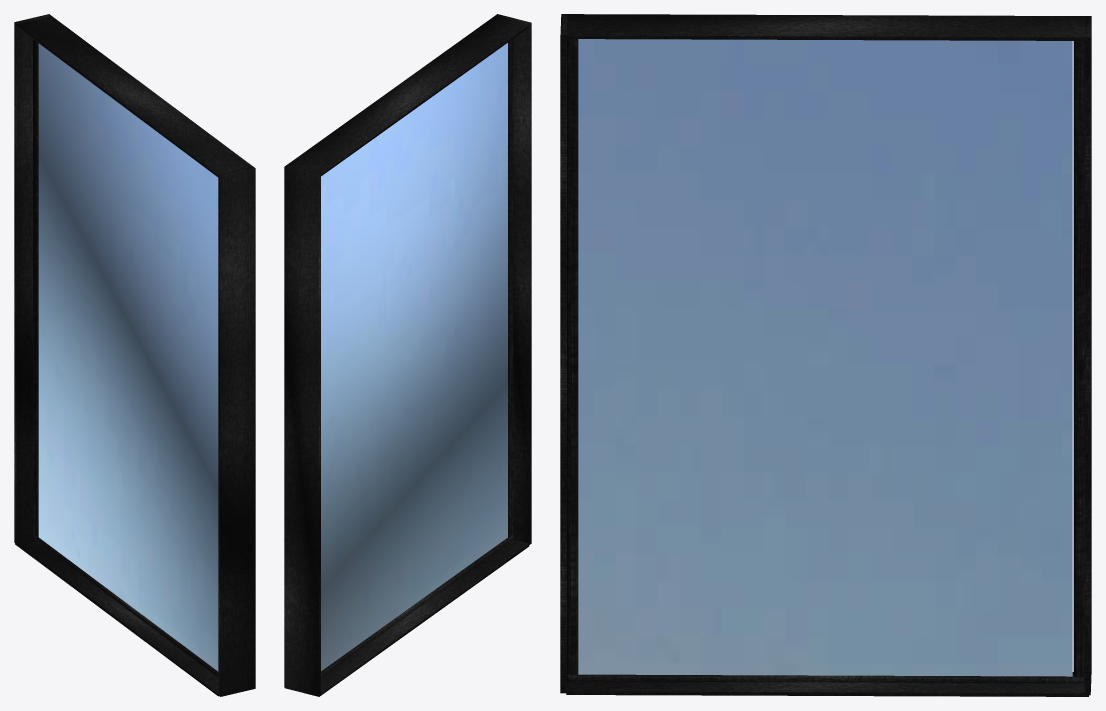
File: Ventana11.obj
3 renders of one model, left to right at view 1: azimuth 30°, elevation 25°; view 2: azimuth 150°, elevation 25°; view 3: azimuth 270°, elevation 25°, orthographic. The views are drawn at different scales.
Visible parts, largest first — view 1: polySurface113; view 2: polySurface113; view 3: polySurface113.
Boxes of the visible parts, x1,y1,x2,y2 form: polySurface113: (14, 14, 255, 696); polySurface113: (284, 14, 531, 696); polySurface113: (560, 14, 1091, 696).
Size of the model in its own units: 0.1565 by 2.05 by 1.5.
2 materials, 2 textured.
